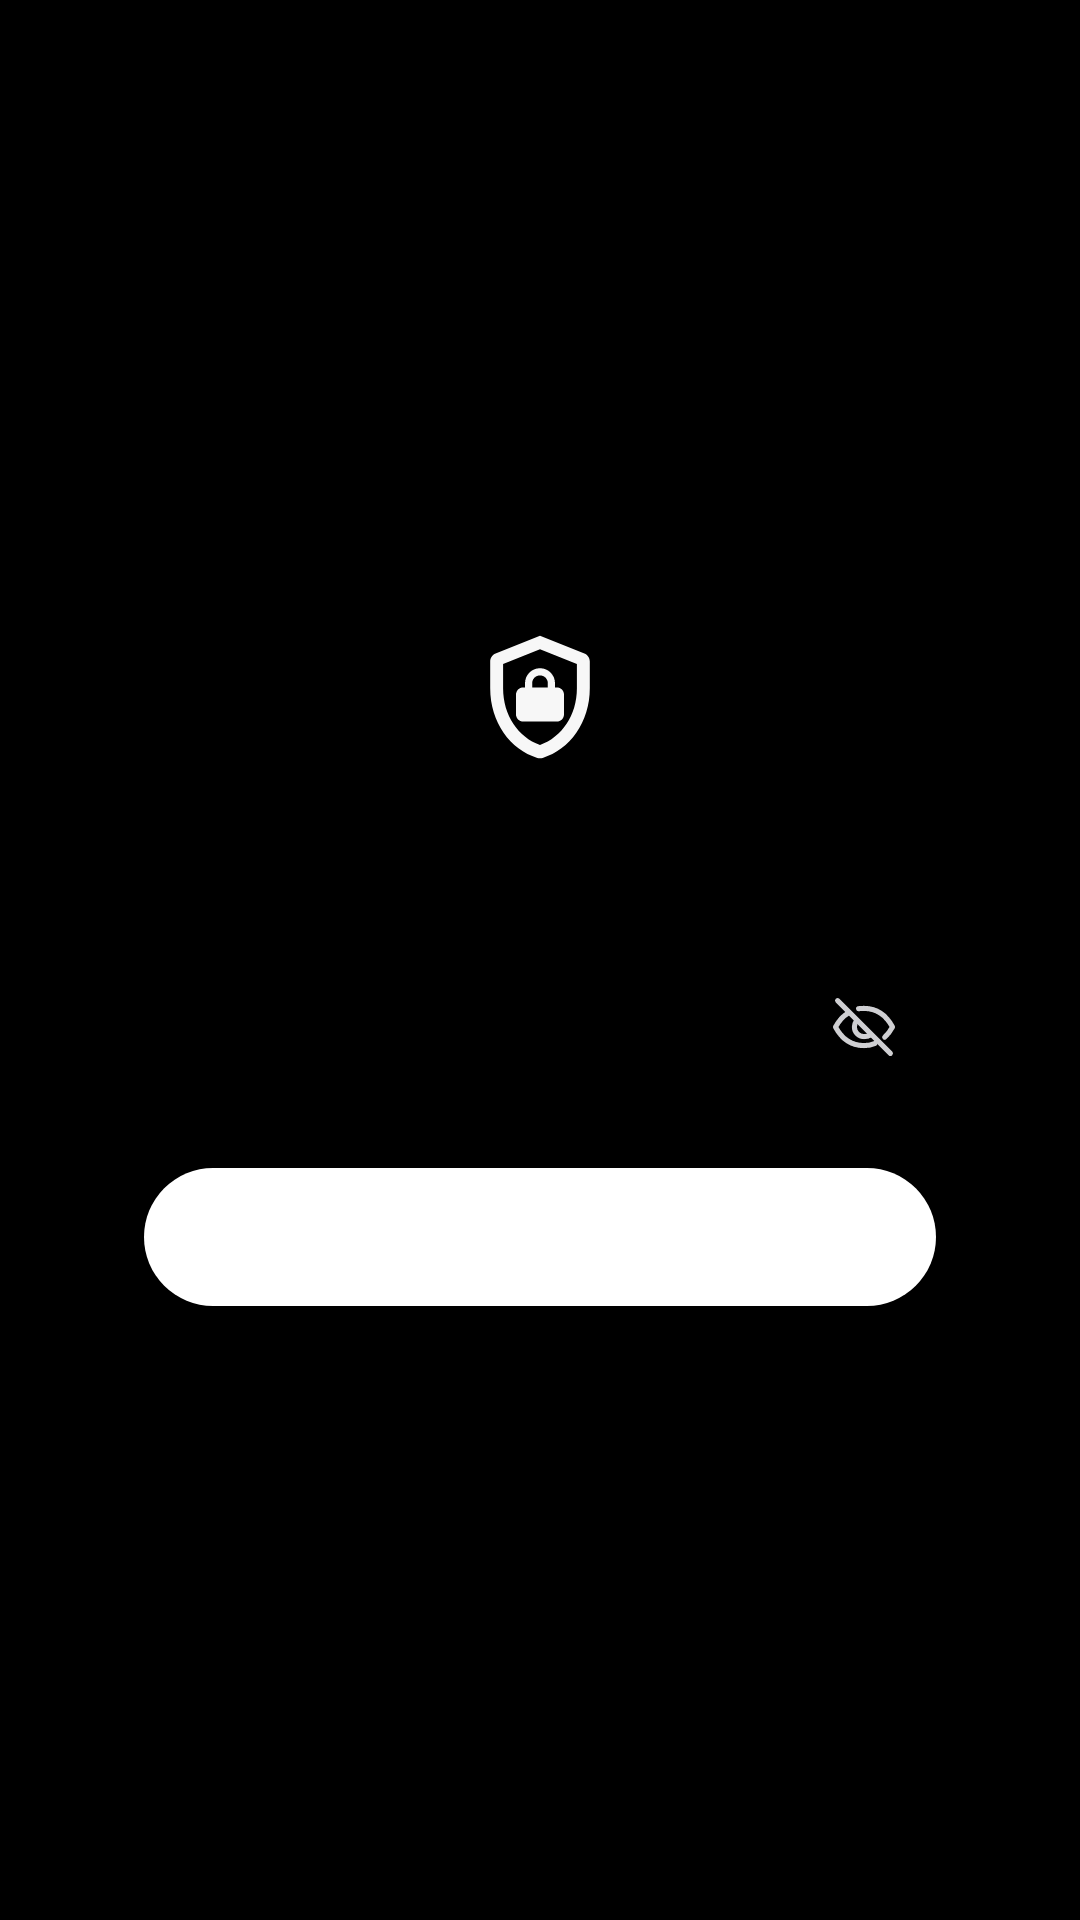

Named icons in this screenshot (1080×1920) and their bounding boxes, region(x1, y1, x2, y2):
security: region(490, 636, 590, 759)
security eye off: region(833, 998, 895, 1056)
